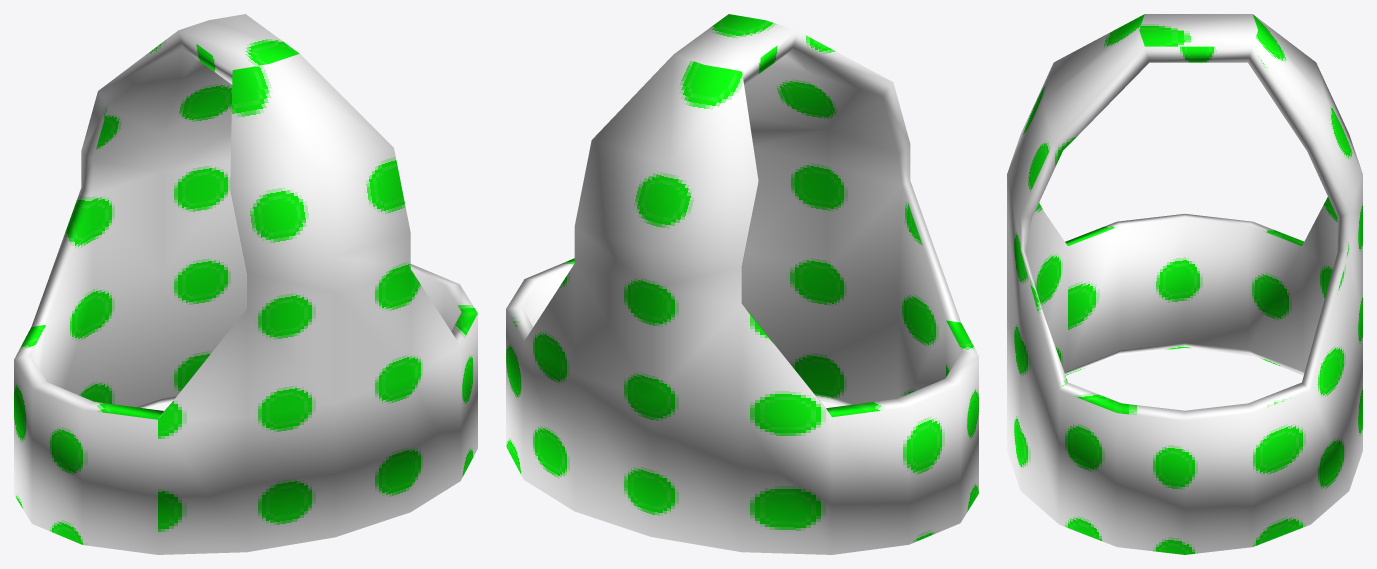
The model's file is amogus-hat-underwear.fbx.
3 views of the same model, side by side, from view 1: azimuth 30°, elevation 25°; view 2: azimuth 150°, elevation 25°; view 3: azimuth 270°, elevation 25° (orthographic). The views are drawn at different scales.
Visible parts, largest first — view 1: UnderwearHat; view 2: UnderwearHat; view 3: UnderwearHat.
Boxes of the visible parts, <box> form: UnderwearHat: <box>14,14,477,554</box>; UnderwearHat: <box>506,14,978,554</box>; UnderwearHat: <box>1007,14,1362,554</box>.
Size of the model in its own units: 111 by 80.83 by 106.
